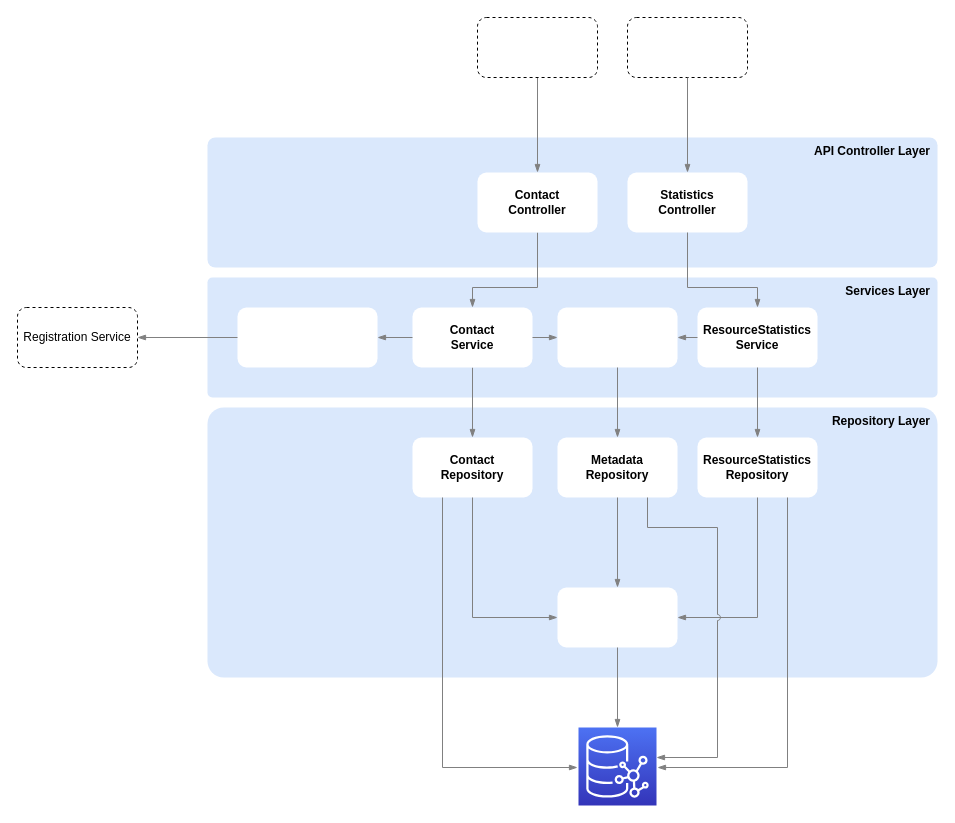
Some shapes in this 955 by 823 pixel diagram are drawn without their labels. Each missing label, with the centre of its shape:
Editor: (687,47)
Metadata Service: (617,337)
MetadataGraph Configuration Repository: (617,617)
RemoteRegistration Service: (307,337)
Scheduler Service: (537,47)
